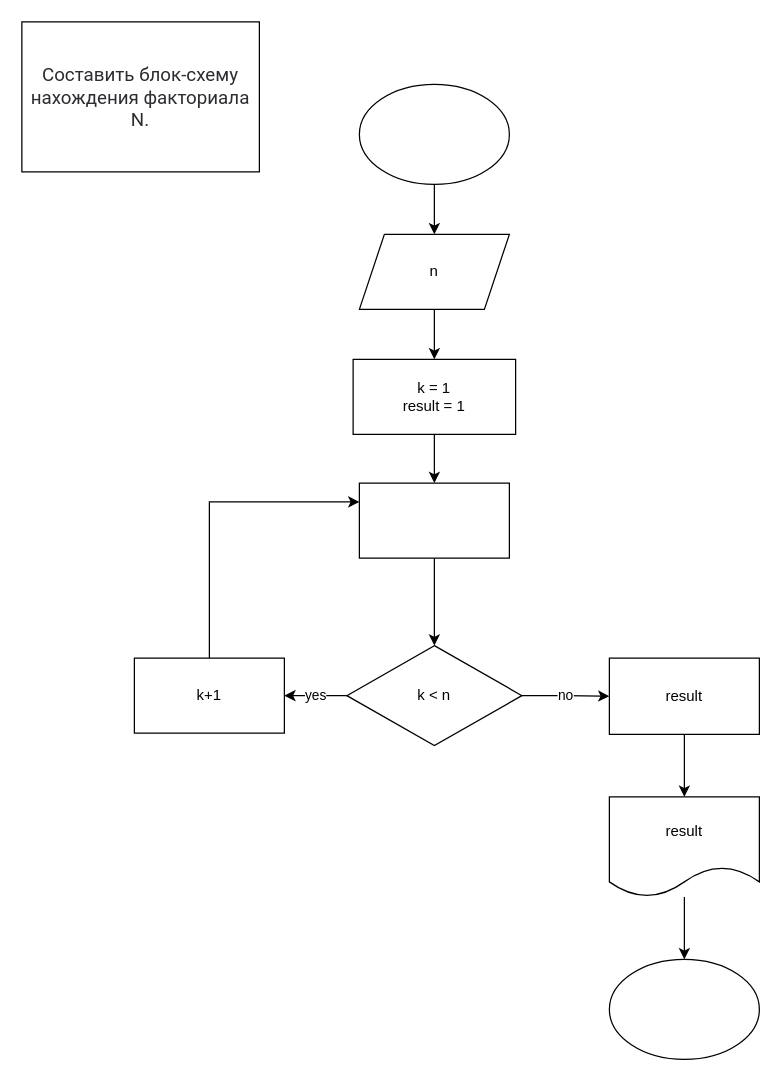
This 781x1081 diagram has some shape labels left out. The centre of each missing label's shape, as x and y in pixels:
"exit" goes at (x=683, y=1008).
"result = k * result" goes at (x=433, y=520).
"start" goes at (x=433, y=133).
